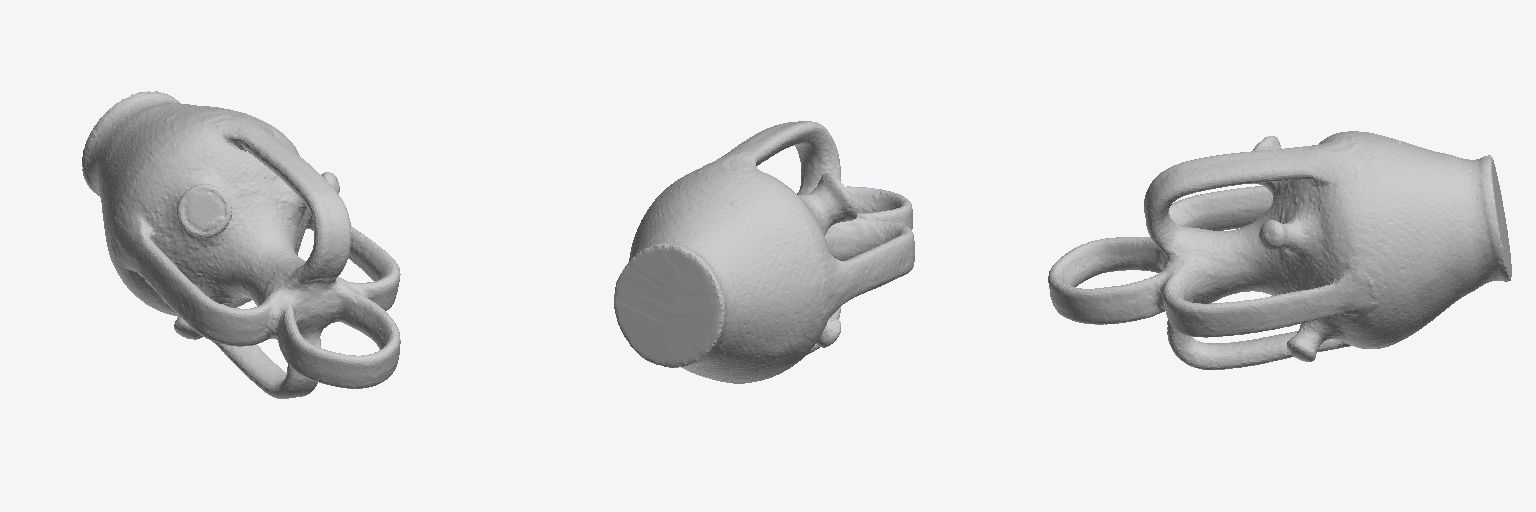
Rendered from botijo.obj.
3 views of the same model, side by side, from view 1: azimuth 30°, elevation 25°; view 2: azimuth 150°, elevation 25°; view 3: azimuth 270°, elevation 25° (orthographic).
Size of the model in its own units: 1.63 by 1.69 by 3.14.